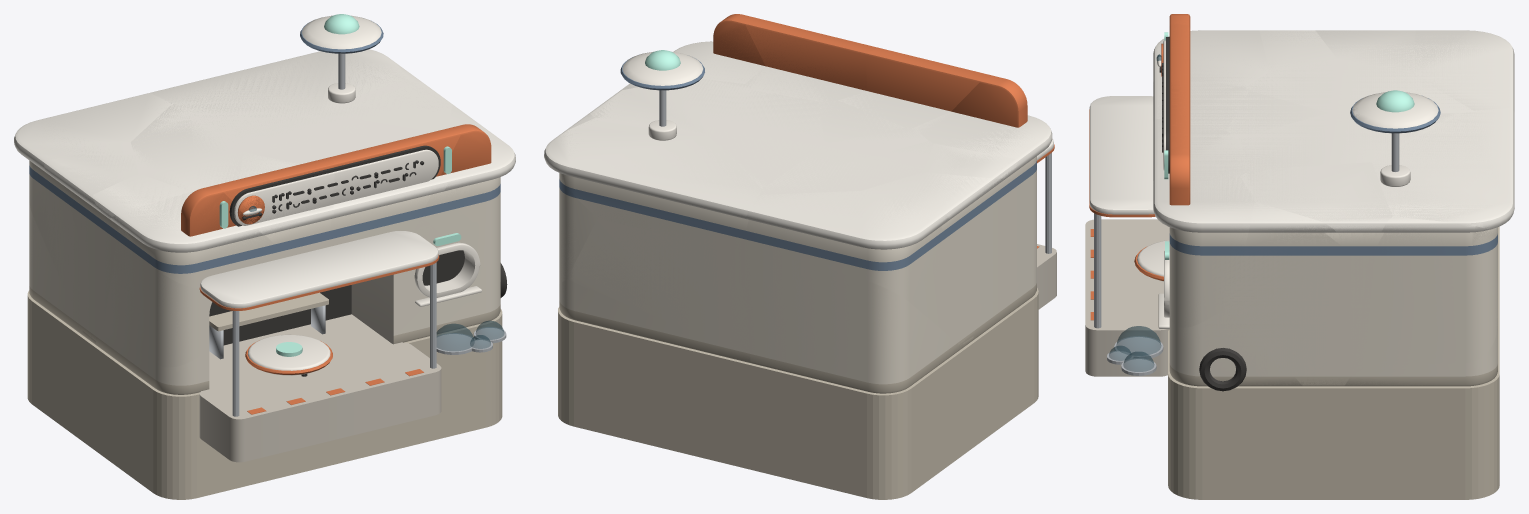
Rendered from Loja_Oficina.fbx.
The picture shows the model from 3 angles, left to right: view 1: azimuth 30°, elevation 25°; view 2: azimuth 150°, elevation 25°; view 3: azimuth 270°, elevation 25°; orthographic projection. The views are drawn at different scales.
Visible parts, largest first — view 1: LOD0_Predio.011, LOD0_Base.011, LOD0_Chao.011, Caco_22.009, LOD0_Obj_Cobertura, Caco_15.011, Caco_02.011, Caco_14.011, Caco_05.011, Caco_21.009, Caco_01.011, Caco_17.011 (+13 smaller); view 2: LOD0_Predio.011, LOD0_Base.011, Caco_22.009, Caco_06.011, Caco_14.011, Caco_07.011, Caco_05.011, Caco_10.011, Caco_15.011, Caco_09.011, Caco_17.011, Caco_16.011 (+10 smaller); view 3: LOD0_Predio.011, LOD0_Base.011, Caco_08.011, Caco_20.009, Caco_22.009, Caco_21.009, LOD0_Chao.011, LOD0_Obj_Cobertura, Caco_09.011, Caco_14.011, Caco_01.011, Caco_10.011 (+13 smaller).
Part boxes in pixels (<box>): LOD0_Predio.011: <box>20,15,515,394</box>; LOD0_Base.011: <box>27,290,502,499</box>; LOD0_Chao.011: <box>199,314,441,462</box>; Caco_22.009: <box>150,14,409,114</box>; LOD0_Obj_Cobertura: <box>199,231,439,416</box>; Caco_15.011: <box>110,184,276,288</box>; Caco_02.011: <box>104,226,212,367</box>; Caco_14.011: <box>14,93,171,338</box>; Caco_05.011: <box>330,127,460,243</box>; Caco_21.009: <box>413,124,515,268</box>; Caco_01.011: <box>337,250,500,344</box>; Caco_17.011: <box>218,157,334,246</box>; LOD0_Predio.011: <box>545,15,1050,393</box>; LOD0_Base.011: <box>558,288,1038,499</box>; Caco_22.009: <box>544,50,761,251</box>; Caco_06.011: <box>743,241,958,393</box>; Caco_14.011: <box>742,191,980,344</box>; Caco_07.011: <box>569,218,734,336</box>; Caco_05.011: <box>745,17,878,101</box>; Caco_10.011: <box>710,90,824,187</box>; Caco_15.011: <box>914,77,1052,181</box>; Caco_09.011: <box>589,79,751,135</box>; Caco_17.011: <box>838,48,992,126</box>; Caco_16.011: <box>761,141,933,194</box>; LOD0_Predio.011: <box>1153,17,1514,386</box>; LOD0_Base.011: <box>1168,226,1499,499</box>; Caco_08.011: <box>1357,217,1497,365</box>; Caco_20.009: <box>1232,201,1366,386</box>; Caco_22.009: <box>1352,90,1514,238</box>; Caco_21.009: <box>1153,148,1253,327</box>; LOD0_Chao.011: <box>1085,219,1169,376</box>; LOD0_Obj_Cobertura: <box>1089,96,1155,328</box>; Caco_09.011: <box>1240,107,1392,264</box>; Caco_14.011: <box>1412,30,1514,112</box>; Caco_01.011: <box>1158,293,1302,386</box>; Caco_10.011: <box>1239,113,1458,169</box>.
Size of what is drawn, in the model's own units: 11.2 by 10 by 10.45.
